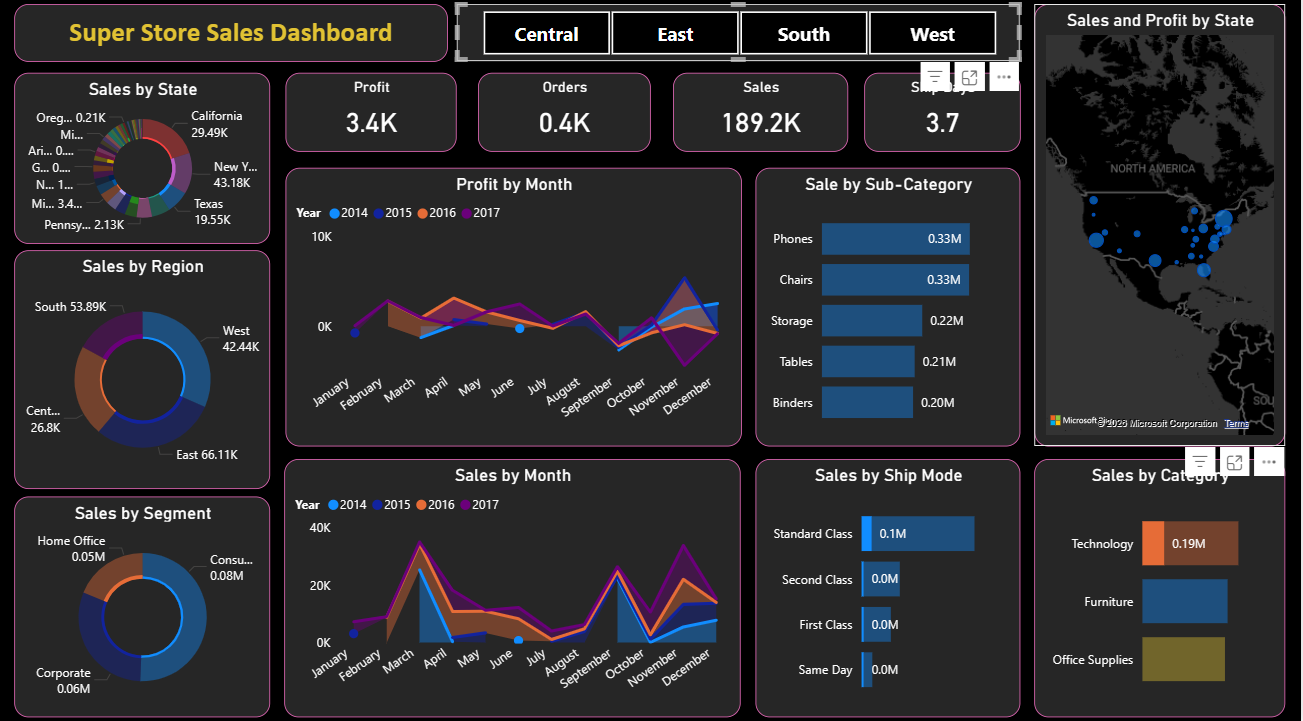

What the dashboard file says about the page in this screenshot:
{"tool":"powerbi","page":{"name":"Page 1","canvas":[1280,720],"ordinal":0},"visuals":[{"type":"clusteredBarChart","title":"Sales by Category","fields":{"Category":["Sample - Superstore (2).Category"],"Y":["Sum(Sample - Superstore (2).Sales)"]},"box":[1017.2,461.4,246.6,254],"z":0},{"type":"clusteredBarChart","title":" Sale by Sub-Category","fields":{"Category":["Sample - Superstore (2).Sub-Category","Sample - Superstore (2).Category"],"Y":["Sum(Sample - Superstore (2).Sales)"]},"box":[743.6,175.5,260.1,273.6],"z":1000},{"type":"clusteredBarChart","title":"Sales by Ship Mode","fields":{"Category":["Sample - Superstore (2).Ship Mode"],"Y":["Sum(Sample - Superstore (2).Sales)"]},"box":[743.6,461.4,260.1,254],"z":2000},{"type":"stackedAreaChart","title":"Sales by Month","fields":{"Y":["Sum(Sample - Superstore (2).Sales)"],"Category":["Sample - Superstore (2).Order Date.Variation.Date Hierarchy.Month"],"Series":["Sample - Superstore (2).Order Date.Variation.Date Hierarchy.Year"]},"box":[281,461.4,447.9,254],"z":3000},{"type":"stackedAreaChart","title":"Profit by Month","fields":{"Series":["Sample - Superstore (2).Order Date.Variation.Date Hierarchy.Year"],"Category":["Sample - Superstore (2).Order Date.Variation.Date Hierarchy.Month"],"Y":["Sum(Sample - Superstore (2).Profit)"]},"box":[282.2,175.5,447.9,273.6],"z":4000},{"type":"map","title":"Sales and Profit by State","fields":{"Category":["Sample - Superstore (2).State"],"Size":["Sum(Sample - Superstore (2).Sales)"]},"box":[1017.2,14.7,246.6,434.4],"z":5000},{"type":"donutChart","title":"Sales by Segment","fields":{"Category":["Sample - Superstore (2).Segment"],"Y":["Sum(Sample - Superstore (2).Sales)"]},"box":[16,498.2,251.5,217.2],"z":6000},{"type":"slicer","fields":{"Values":["Sample - Superstore (2).Region"]},"box":[450.3,14.7,553.4,56.4],"z":6500},{"type":"donutChart","title":"Sales by Region","fields":{"Category":["Sample - Superstore (2).Region"],"Y":["Sum(Sample - Superstore (2).Sales)"]},"box":[16,256.4,251.5,234.4],"z":7000},{"type":"textbox","box":[16,14.7,425.8,56.4],"z":9000},{"type":"card","title":"Profit","fields":{"Values":["Sum(Sample - Superstore (2).Profit)"]},"box":[282.2,82.2,168.1,77.3],"z":10000},{"type":"card","title":"Orders","fields":{"Values":["Sum(Sample - Superstore (2).Quantity)"]},"box":[471.2,82.2,169.3,77.3],"z":11000},{"type":"card","title":"Sales","fields":{"Values":["Sum(Sample - Superstore (2).Sales)"]},"box":[662.6,82.2,171.8,77.3],"z":12000},{"type":"card","title":"Ship Days","fields":{"Values":["Avg(Sample - Superstore (2).AvgDelivery)"]},"box":[850.3,82.2,153.4,77.3],"z":13000},{"type":"donutChart","title":"Sales by State","fields":{"Y":["Sum(Sample - Superstore (2).Sales)"],"Category":["Sample - Superstore (2).State"]},"box":[16,82.2,251.5,168.1],"z":14000}]}

Visuals, with their boxes in screenshot pixels (x1, y1, x2, y2), scaled from the page's 1280x720 canvas onto the 1303x721 screenshot:
"Sales by Category" clusteredBarChart: 1035 462 1287 716
" Sale by Sub-Category" clusteredBarChart: 757 176 1022 450
"Sales by Ship Mode" clusteredBarChart: 757 462 1022 716
"Sales by Month" stackedAreaChart: 286 462 742 716
"Profit by Month" stackedAreaChart: 287 176 743 450
"Sales and Profit by State" map: 1035 15 1287 450
"Sales by Segment" donutChart: 16 499 272 716
slicer - Sample - Superstore (2).Region: 458 15 1022 71
"Sales by Region" donutChart: 16 257 272 491
textbox: 16 15 450 71
"Profit" card: 287 82 458 160
"Orders" card: 480 82 652 160
"Sales" card: 675 82 849 160
"Ship Days" card: 866 82 1022 160
"Sales by State" donutChart: 16 82 272 251
